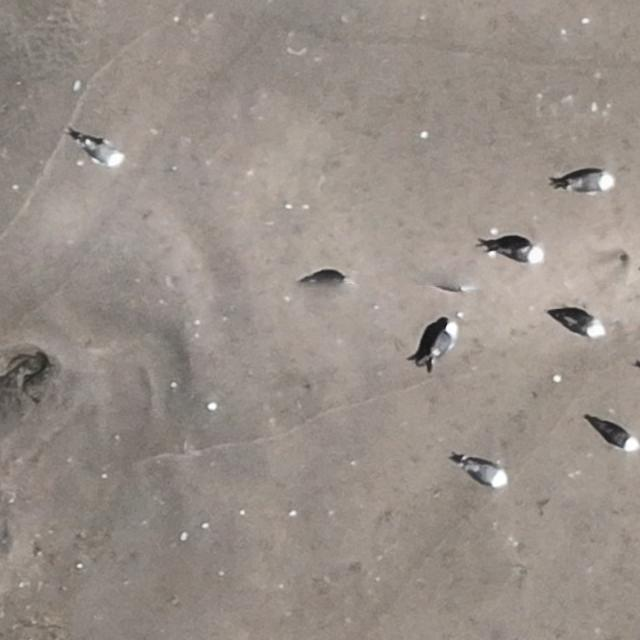umineko: (558, 310, 602, 334), (600, 425, 636, 451), (494, 241, 538, 262), (468, 463, 506, 486), (567, 171, 610, 191), (86, 142, 120, 166), (431, 326, 456, 358)
